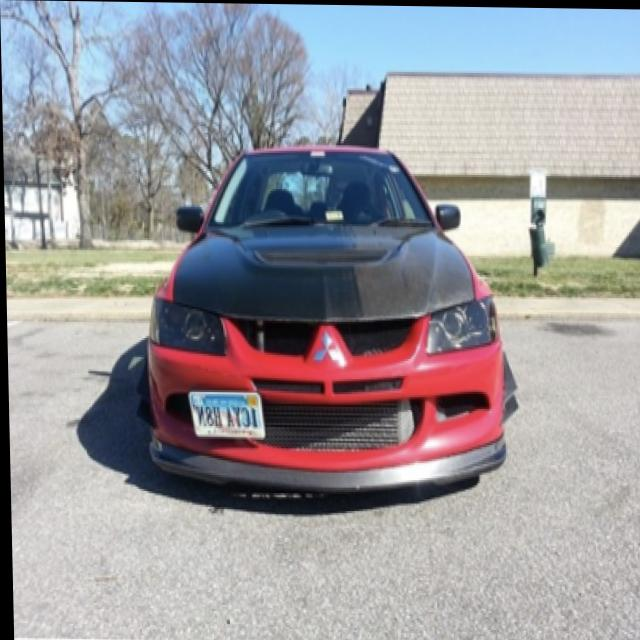licence: (192, 391, 260, 437)
